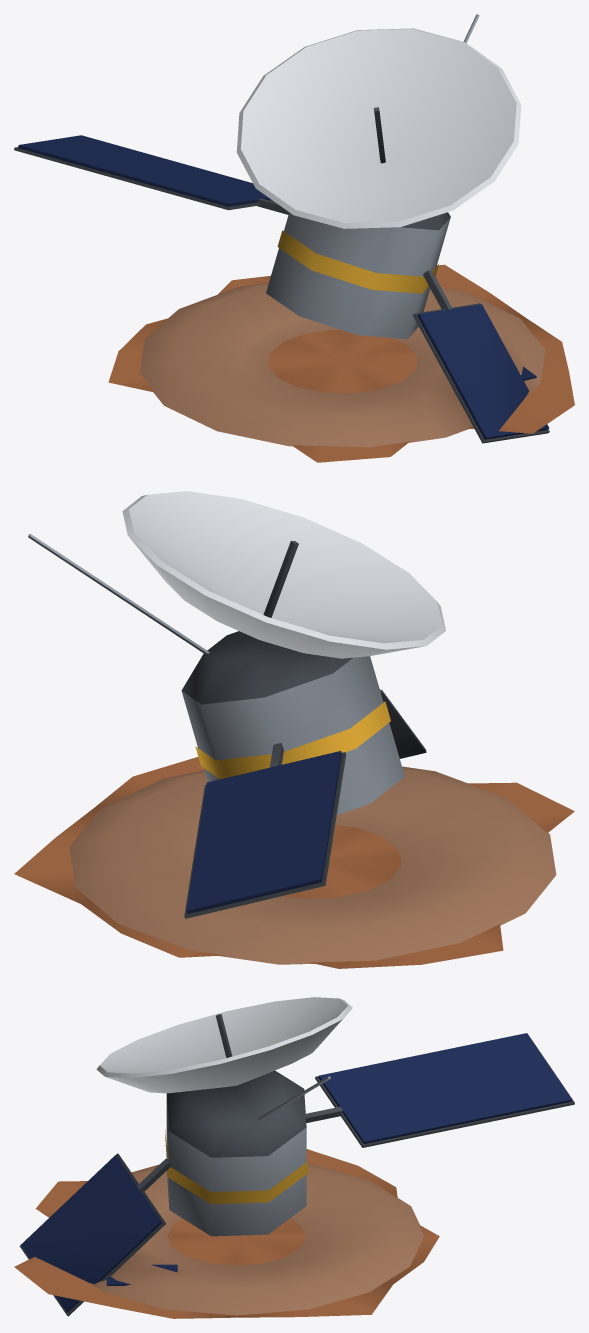
Rendered from poi_probe.glb.
3 views of the same model, one above another, from view 1: azimuth 30°, elevation 25°; view 2: azimuth 150°, elevation 25°; view 3: azimuth 270°, elevation 25° (orthographic). The views are drawn at different scales.
Visible parts, largest first — view 1: Base; view 2: Base; view 3: Base.
Boxes of the visible parts, x1,y1,x2,y2 form: Base: [14, 14, 574, 462]; Base: [14, 491, 574, 968]; Base: [14, 997, 574, 1318].
Size of the model in its own units: 6.88 by 5.29 by 9.5.
